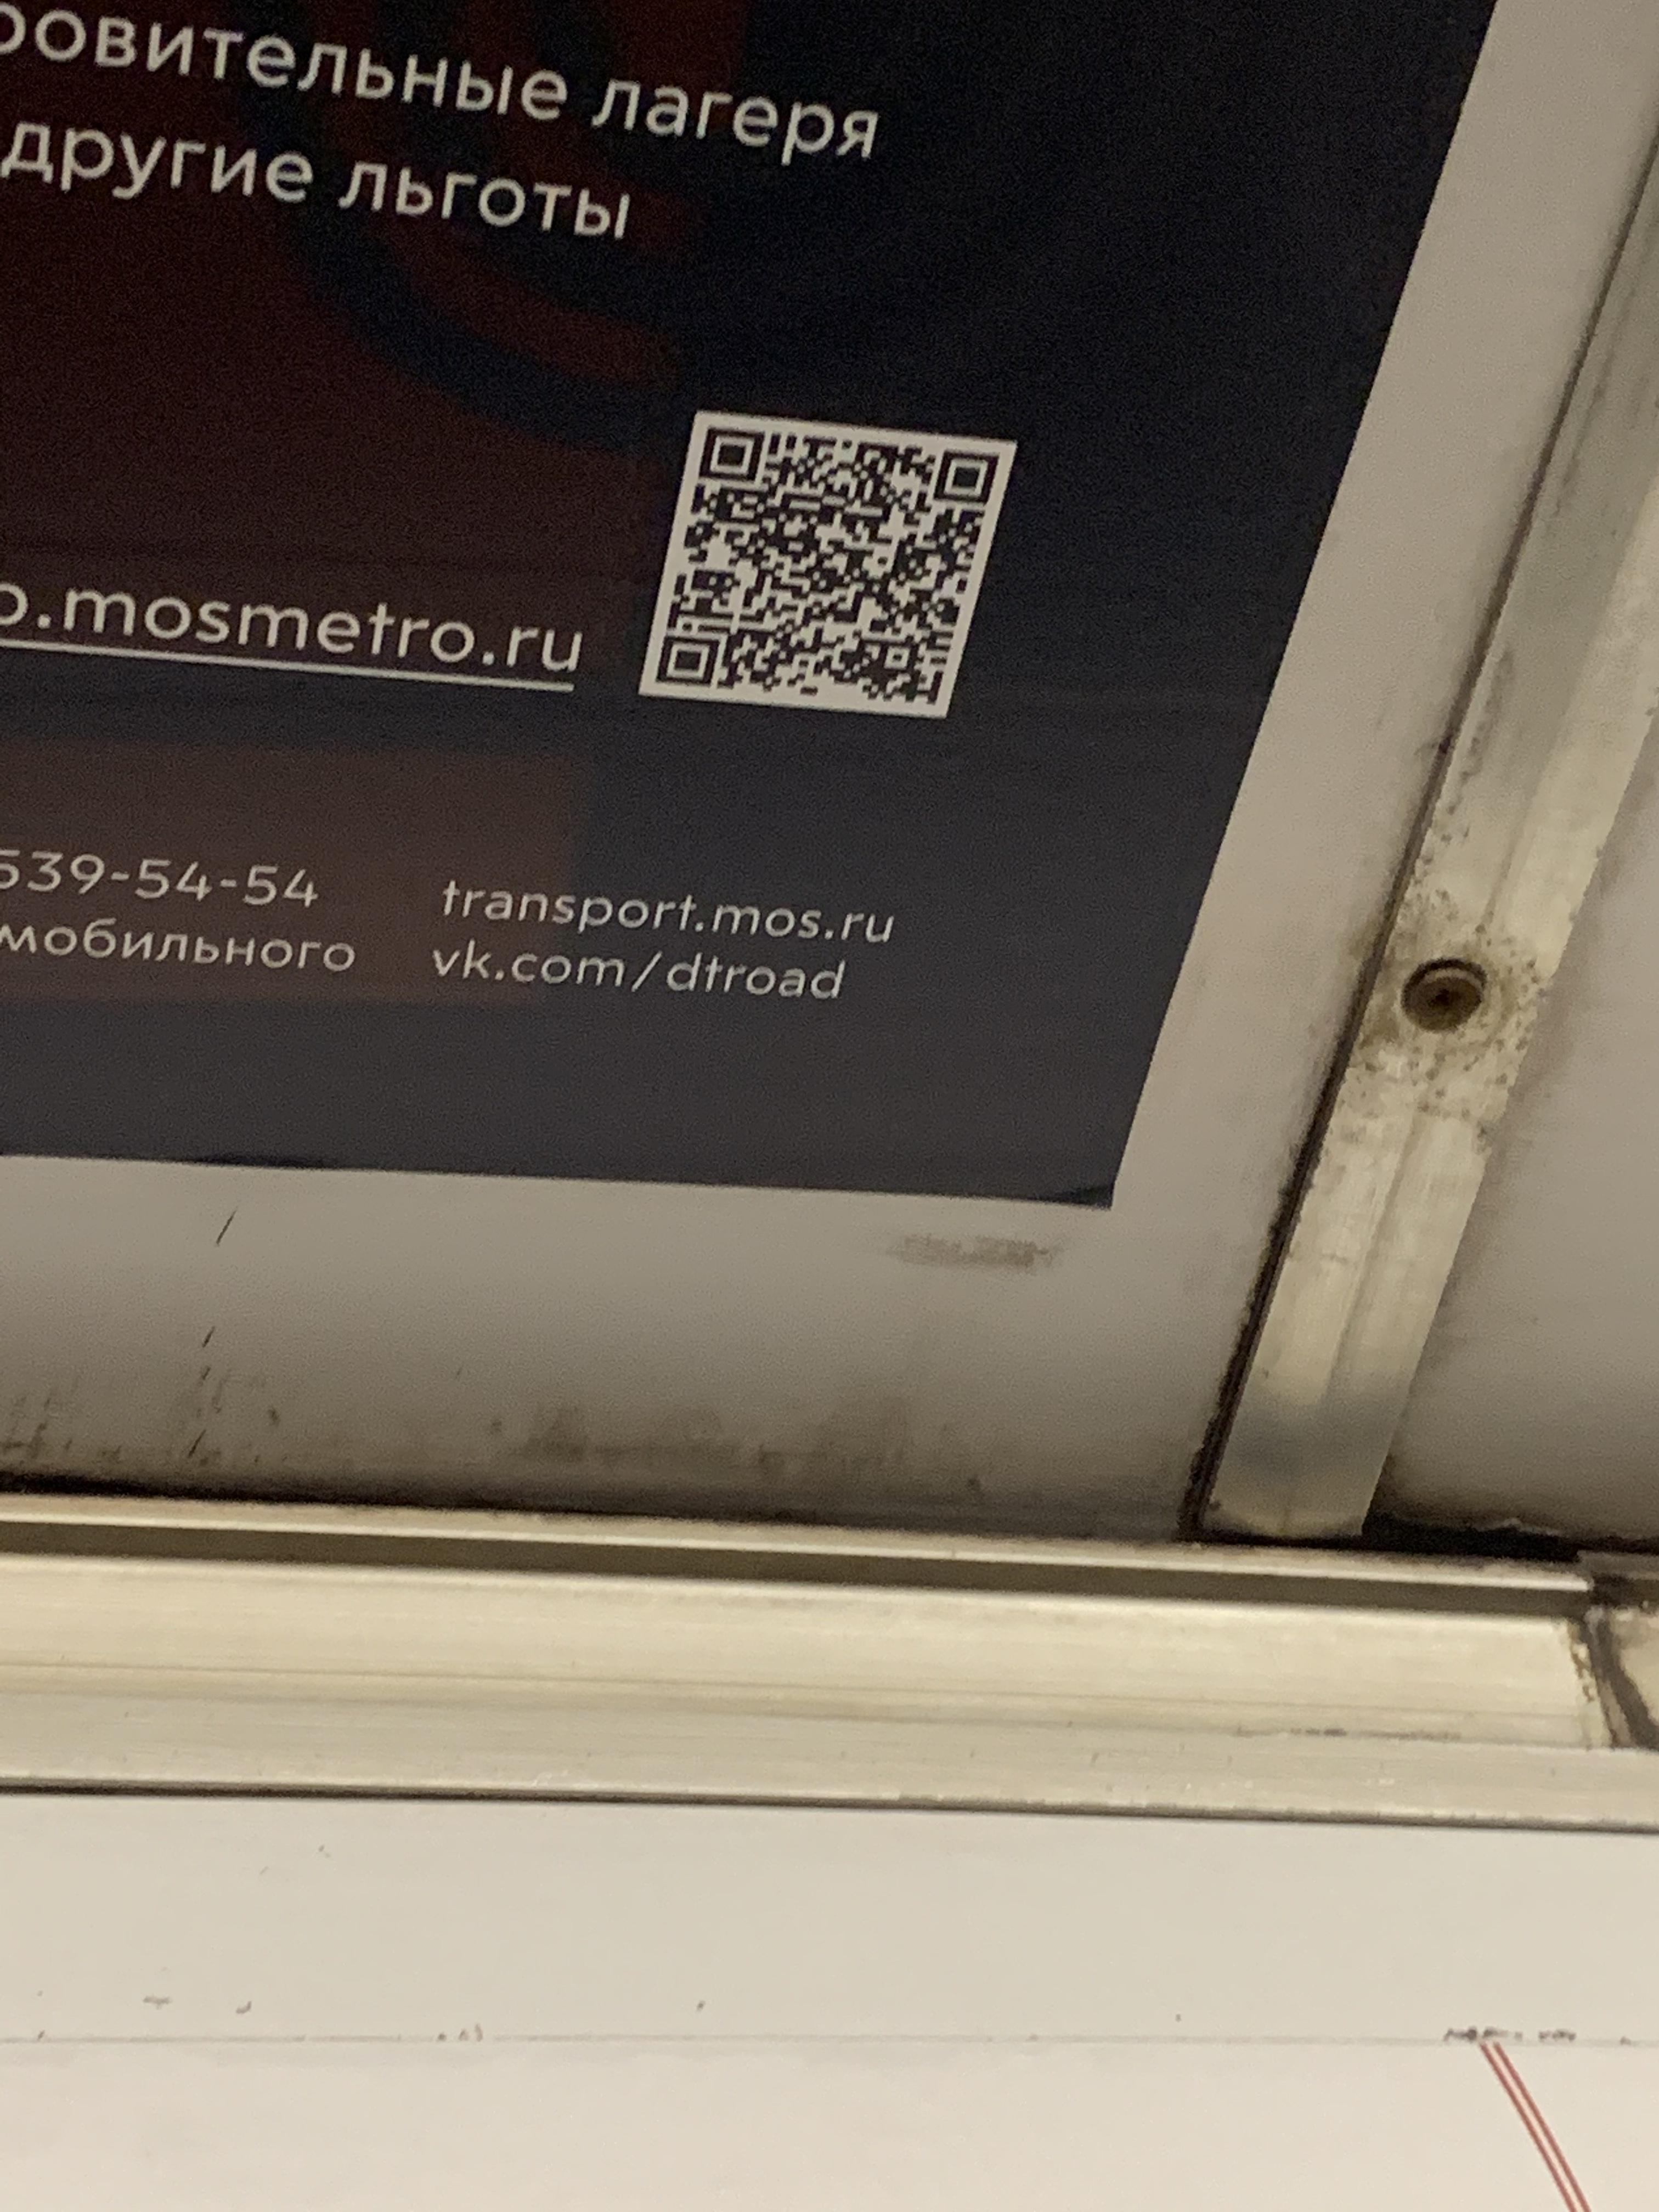qrcode: (657, 423, 999, 705)
